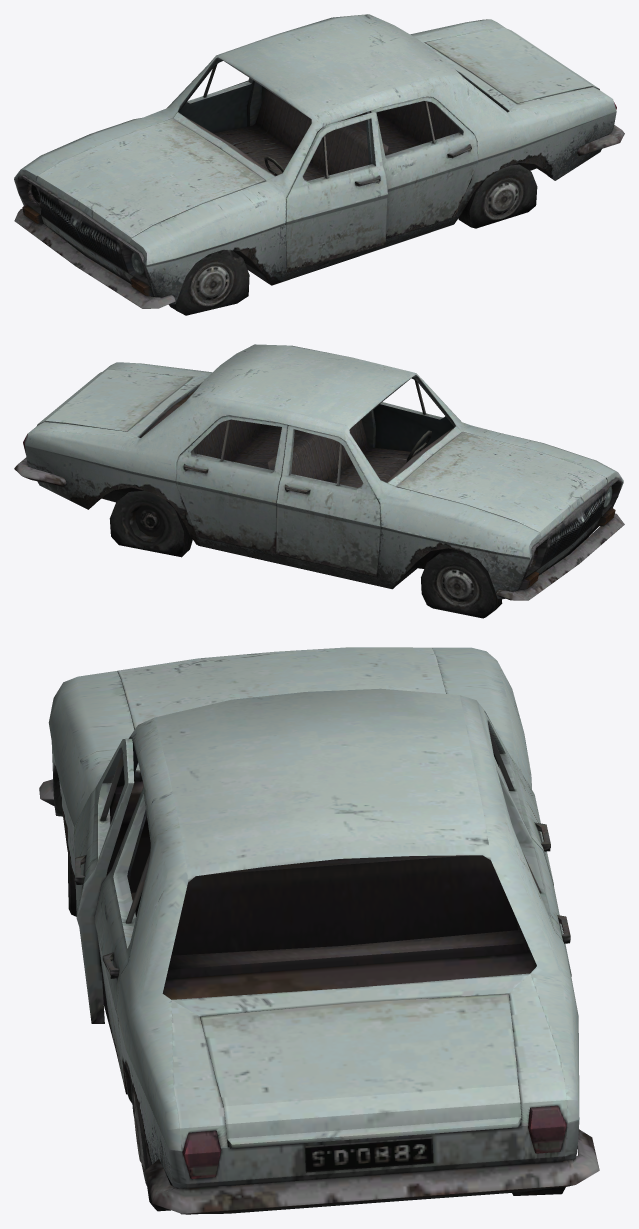
The model's file is oldcar.fbx.
3 renders of one model, top to bottom at view 1: azimuth 30°, elevation 25°; view 2: azimuth 150°, elevation 25°; view 3: azimuth 270°, elevation 25°, orthographic. The views are drawn at different scales.
Visible parts, largest first — view 1: Object_2; view 2: Object_2; view 3: Object_2.
Part boxes in pixels (<box>): Object_2: <box>14,14,624,315</box>; Object_2: <box>14,344,624,618</box>; Object_2: <box>39,647,599,1214</box>.
Bounding box in the file's own units: 719 × 210 × 341.
Materials: 1 (1 with a texture image).
